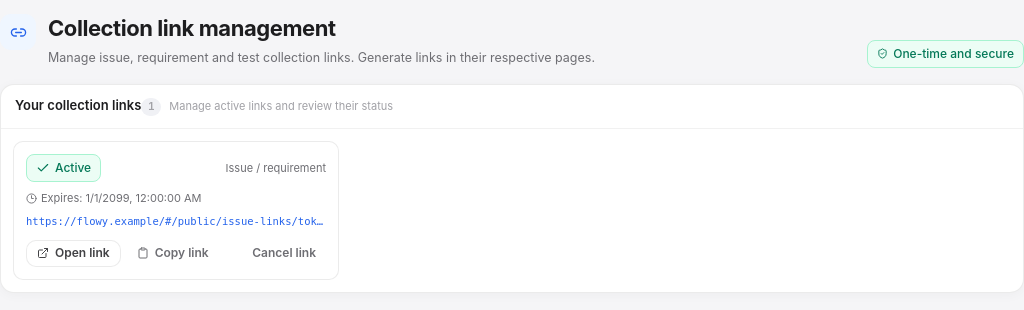
Test case: TemporaryIssueLinksPage › shows a saved link that can be opened or copied after a reload
Click the button "Copy link": (173, 253) [127, 241, 219, 266]
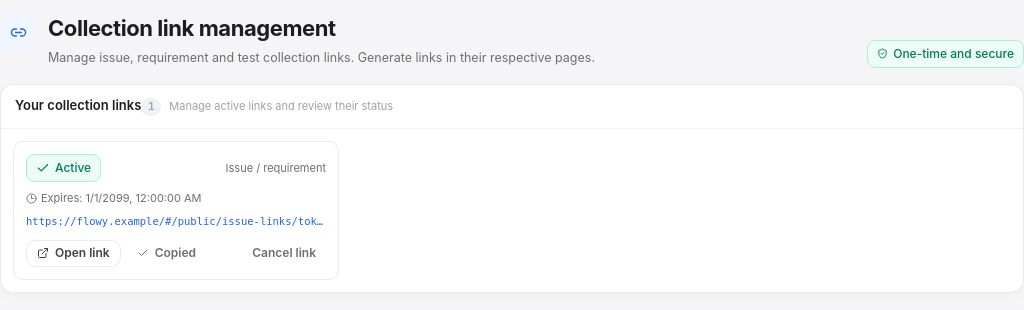
Check: the button "Copied" is shown, box [127, 241, 206, 266]
